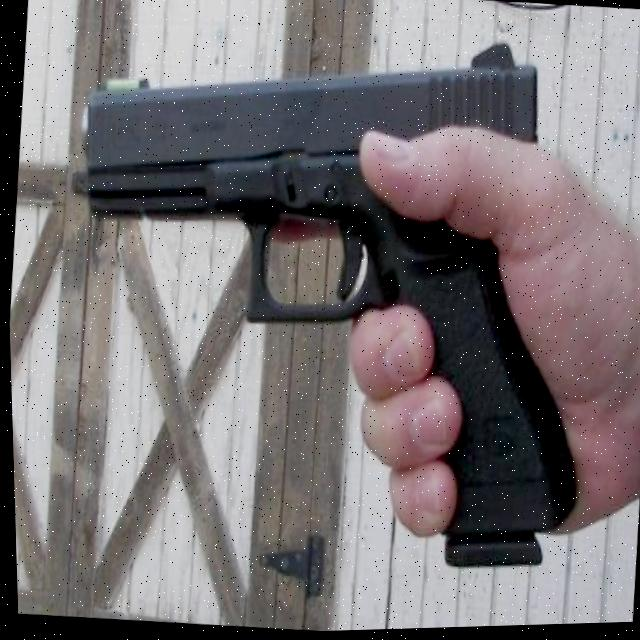pistol: (42, 7, 612, 585)
